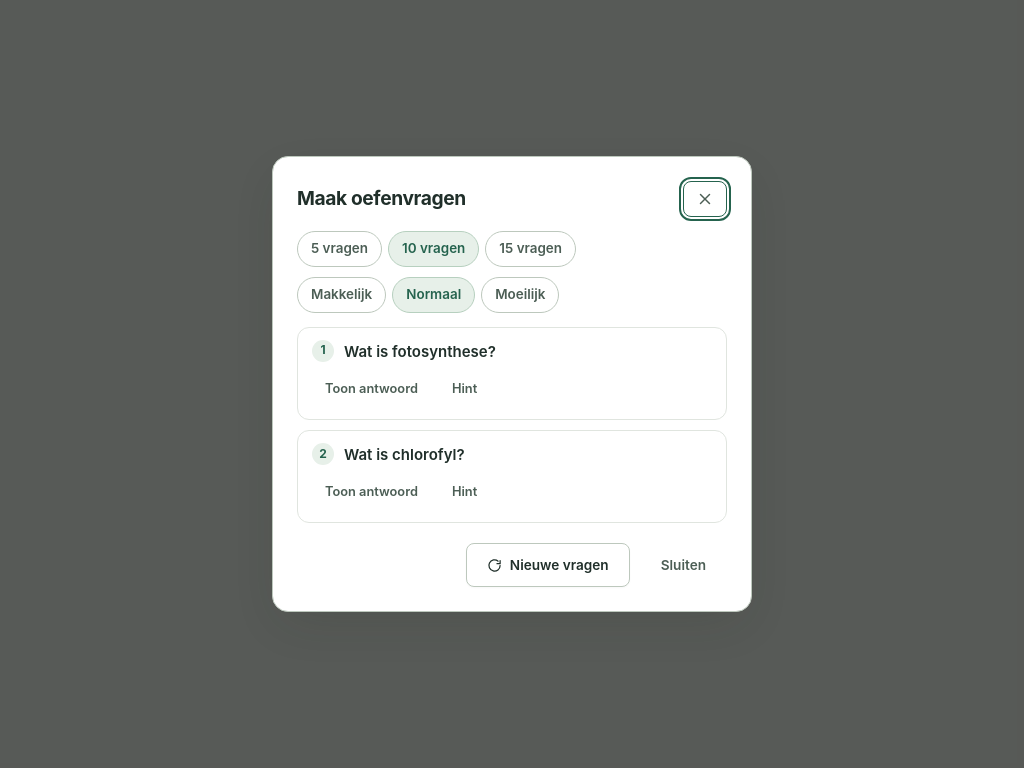
it: AiQuestionsModal › asks Lerno AI for a hint and shows it
Expected: the text "Wat is fotosynthese?" is shown, 344,342 -> 496,361
Click the button "Hint" below "Wat is fotosynthese?" at (465, 389), box 439,371 -> 490,407
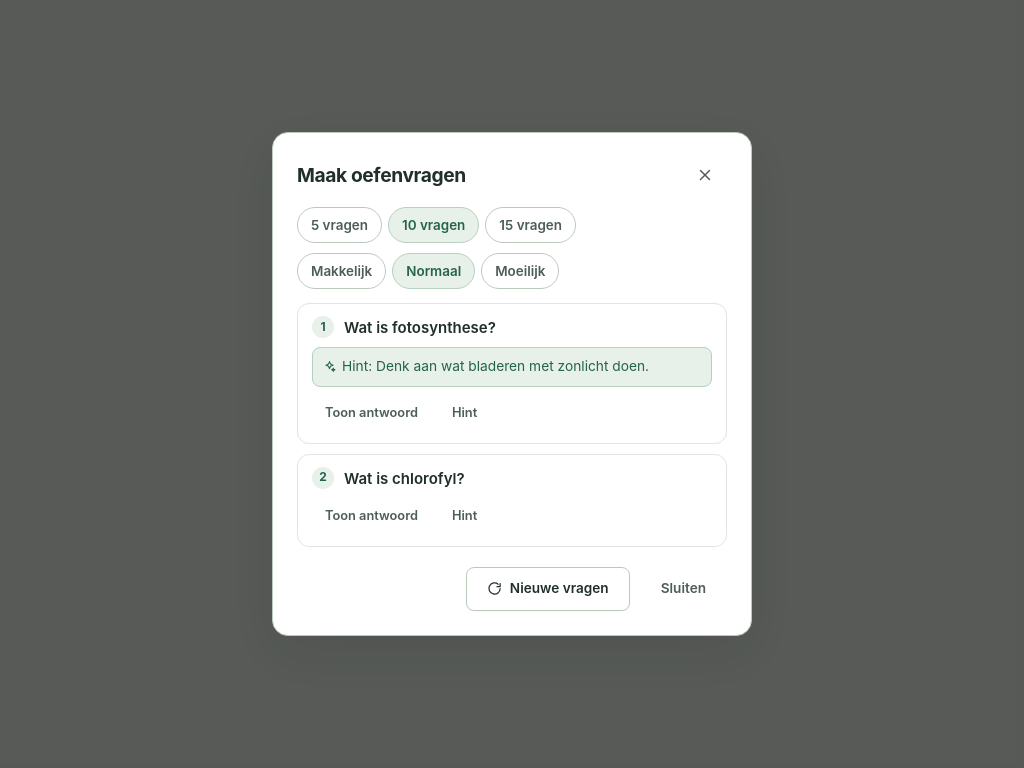
Now the text "Hint: Denk aan wat bladeren met zonlicht doen." is shown, box 312,347 -> 712,387
